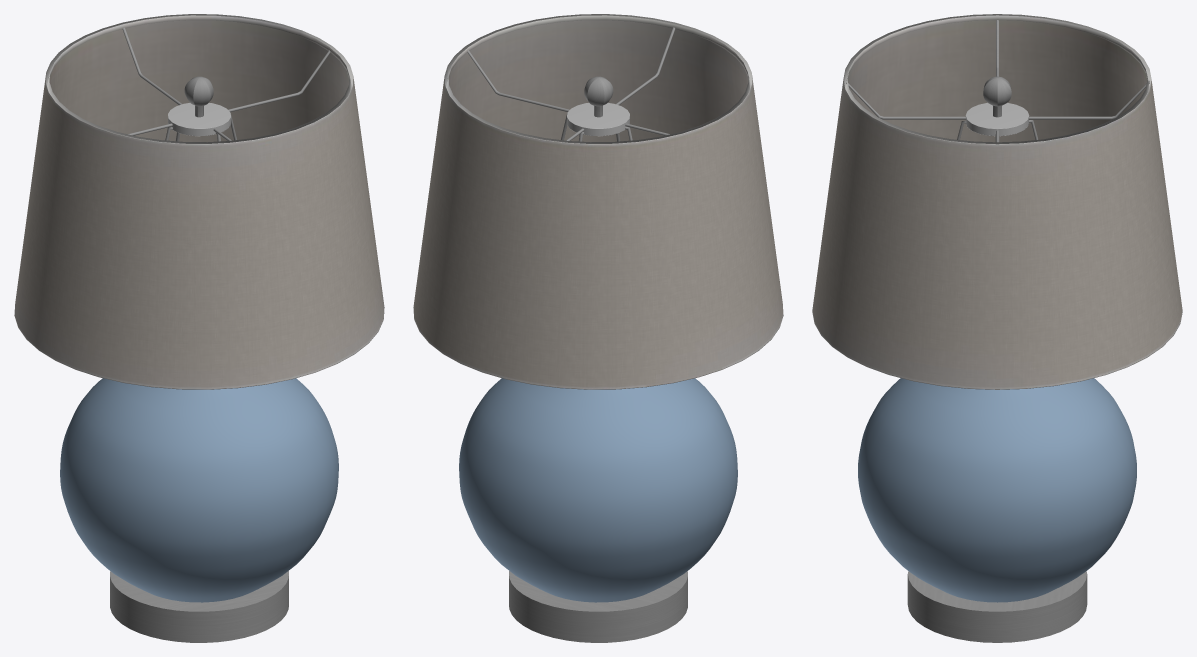
The model's file is plant_B07GNNPB38.glb.
The picture shows the model from 3 angles, left to right: view 1: azimuth 30°, elevation 25°; view 2: azimuth 150°, elevation 25°; view 3: azimuth 270°, elevation 25°; orthographic projection.
Parts seen in each view (by area): view 1: RootNode; view 2: RootNode; view 3: RootNode.
Boxes of the visible parts, x1,y1,x2,y2 form: RootNode: (14,14,384,642); RootNode: (413,14,783,642); RootNode: (812,14,1182,642).
Bounding box in the file's own units: 0.2467 × 0.3873 × 0.2467.
Materials: 1 (1 with a texture image).
